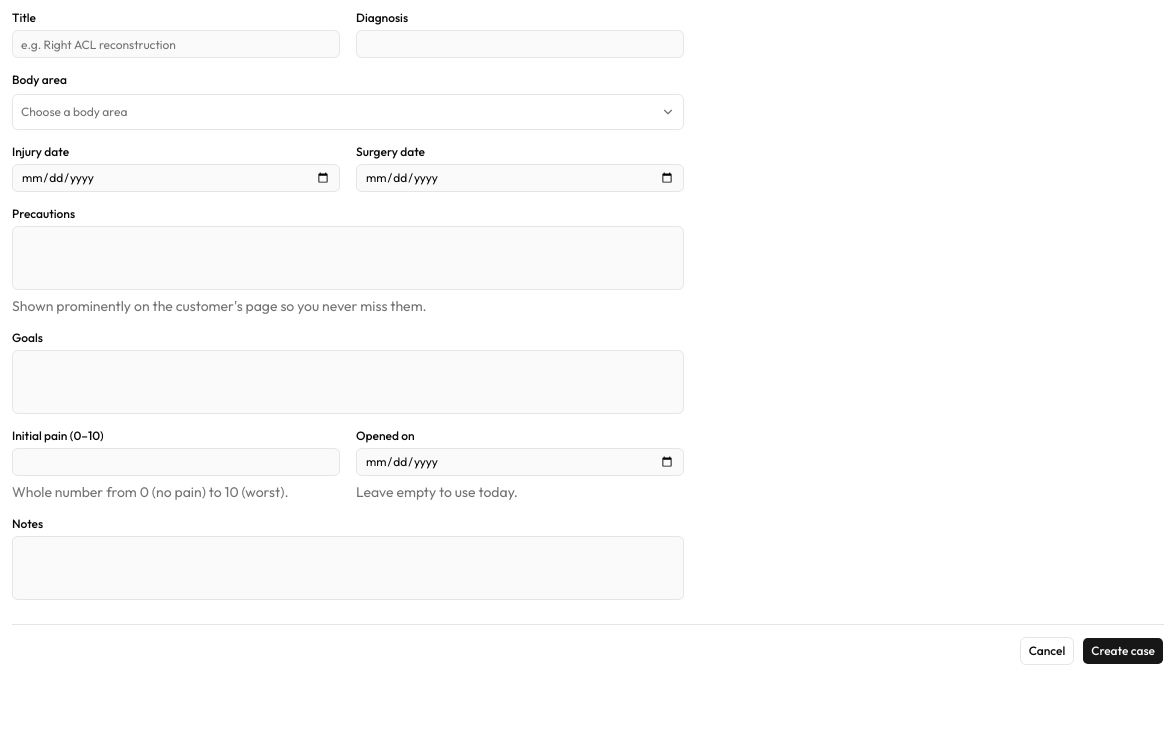
Test: CaseForm › interpolates the maximum length in length errors
Click the button "Create case".
click(1123, 651)  # box [1082, 637, 1164, 665]
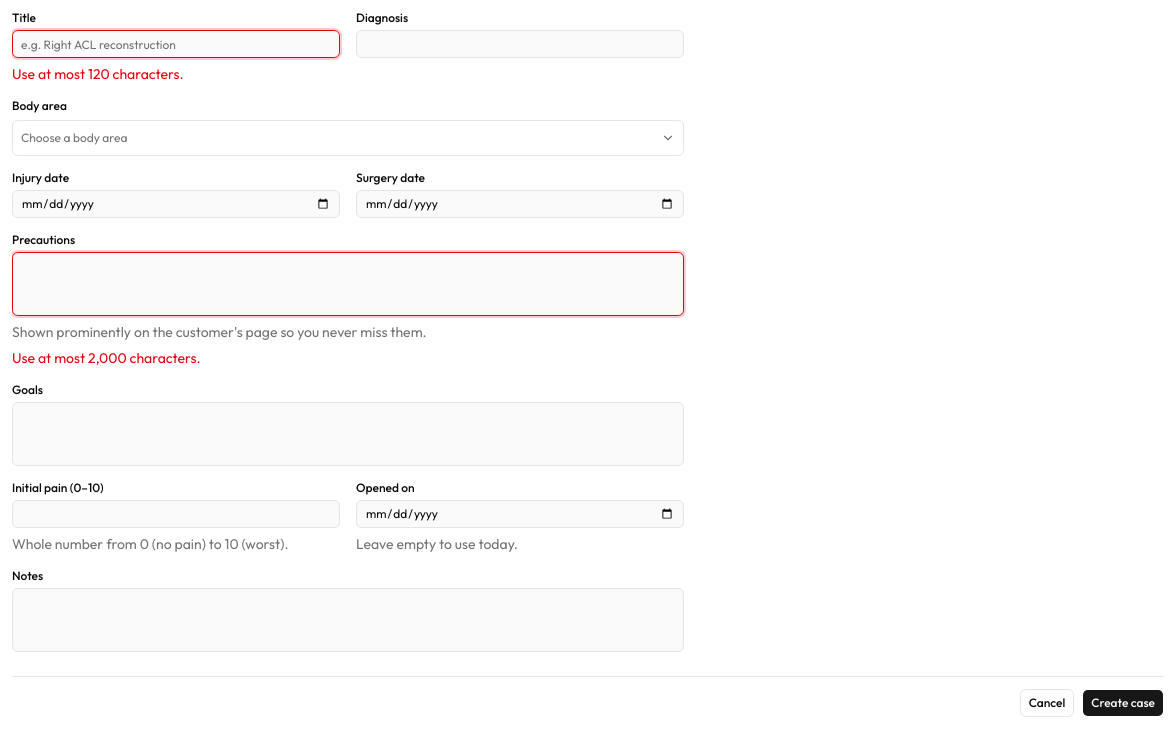
Expected: the text "Use at most 120 characters." is shown, [12, 65, 184, 83]
Expected: the text "Use at most 2,000 characters." is shown, [12, 349, 200, 367]
